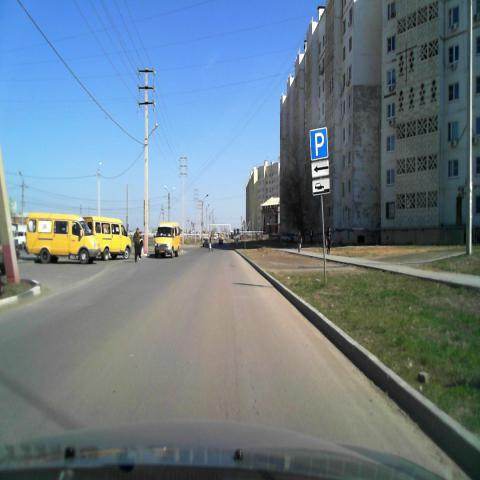6_4: (310, 130, 328, 158)
8_3_2: (311, 162, 329, 177)
8_6_4: (312, 180, 330, 194)
